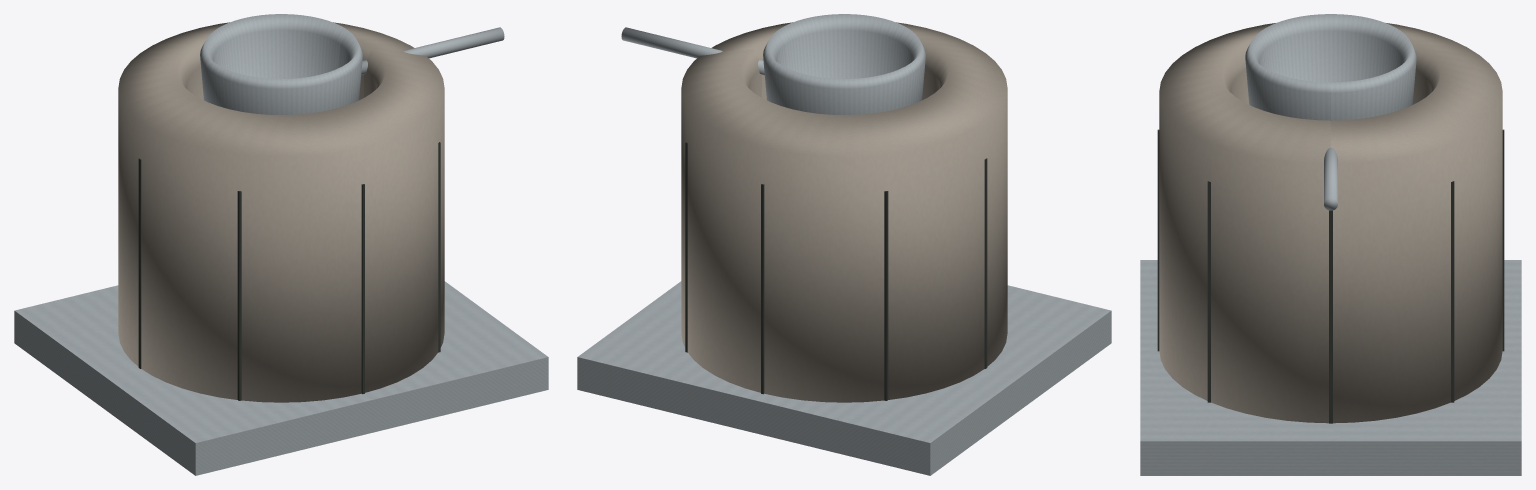
File: furnace.glb
The picture shows the model from 3 angles, left to right: view 1: azimuth 30°, elevation 25°; view 2: azimuth 150°, elevation 25°; view 3: azimuth 270°, elevation 25°; orthographic projection. The views are drawn at different scales.
Parts seen in each view (by area): view 1: refractory body, furnace foot, crucible, pour handle, brick seam.005, brick seam.004, brick seam.006, brick seam.007; view 2: refractory body, furnace foot, crucible, pour handle, brick seam.003, brick seam.002, brick seam.004, brick seam.001; view 3: refractory body, furnace foot, crucible, brick seam.001, brick seam.007, brick seam, pour handle, brick seam.002, brick seam.006.
Part boxes in pixels (x1,y1,x2,y2): refractory body: [118, 22, 444, 402]; furnace foot: [14, 281, 548, 475]; crucible: [200, 14, 362, 114]; pour handle: [361, 27, 504, 74]; brick seam.005: [237, 191, 241, 400]; brick seam.004: [138, 158, 141, 368]; brick seam.006: [361, 184, 364, 394]; brick seam.007: [438, 142, 440, 352]; refractory body: [681, 22, 1007, 402]; furnace foot: [577, 281, 1111, 475]; crucible: [763, 14, 925, 114]; pour handle: [621, 27, 764, 74]; brick seam.003: [884, 191, 888, 400]; brick seam.002: [761, 184, 764, 394]; brick seam.004: [984, 158, 987, 368]; brick seam.001: [685, 142, 687, 352]; refractory body: [1159, 23, 1502, 423]; furnace foot: [1140, 260, 1521, 475]; crucible: [1245, 14, 1416, 120]; brick seam.001: [1451, 181, 1454, 402]; brick seam.007: [1207, 181, 1210, 402]; brick seam: [1329, 210, 1332, 423]; pour handle: [1324, 120, 1337, 210]; brick seam.002: [1502, 129, 1504, 351]; brick seam.006: [1157, 129, 1159, 351].
Size of the model in its own units: 1.01 by 0.78 by 0.8.
Materials: 3 (3 with a texture image).
